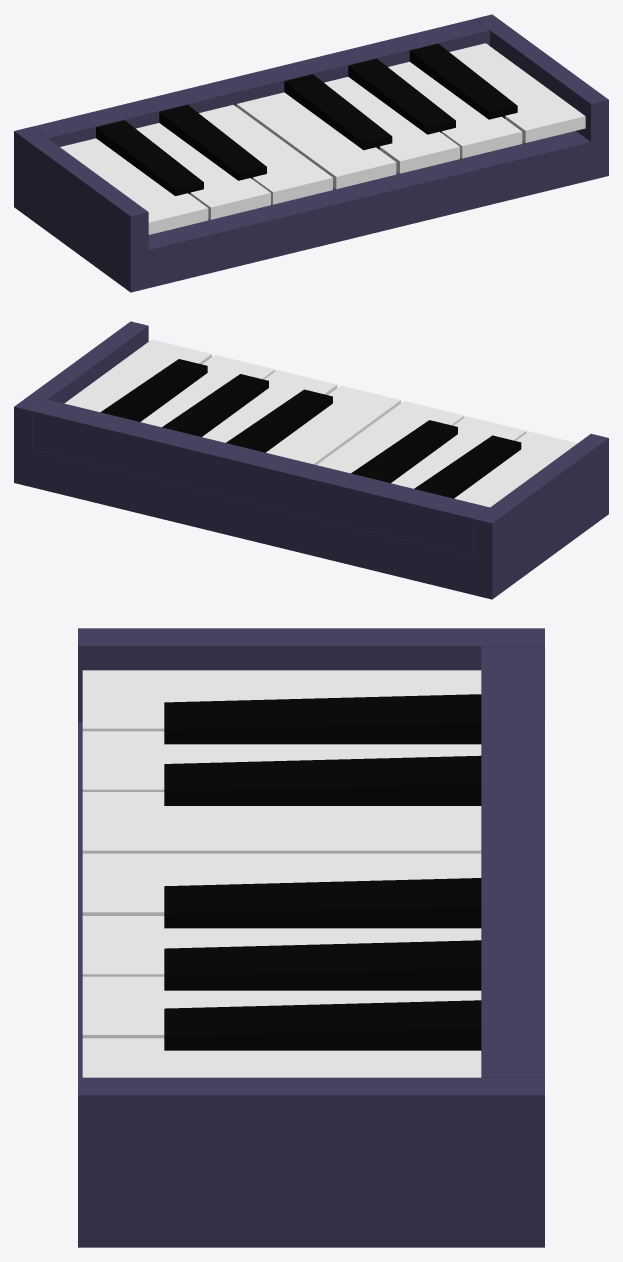
File: piano.glb
3 renders of one model, top to bottom at view 1: azimuth 30°, elevation 25°; view 2: azimuth 150°, elevation 25°; view 3: azimuth 270°, elevation 25°, orthographic. The views are drawn at different scales.
Visible parts, largest first — view 1: base, Fa, Si, Mi, Do, Sol, Re, La, Fa#, La#, Re#, Do# (+1 smaller); view 2: base, Fa, Si, Mi, Do, Sol, Do#, Fa#, La#, Sol#, Re#, Re (+1 smaller); view 3: base, Mi, Fa#, Do#, La#, Sol#, Re#, Fa, Do, Si, Sol, Re (+1 smaller).
Boxes of the visible parts, <box> form: base: <box>14,14,608,292</box>; Fa: <box>236,92,396,189</box>; Si: <box>449,43,585,142</box>; Mi: <box>199,105,332,204</box>; Do: <box>60,138,208,234</box>; Sol: <box>324,77,459,173</box>; Re: <box>136,123,270,219</box>; La: <box>388,61,522,158</box>; Fa#: <box>284,74,392,150</box>; La#: <box>409,43,517,119</box>; Re#: <box>159,104,266,180</box>; Do#: <box>96,120,203,195</box>; base: <box>14,321,608,599</box>; Fa: <box>266,385,400,464</box>; Si: <box>64,339,211,412</box>; Mi: <box>317,401,464,473</box>; Do: <box>454,431,577,507</box>; Sol: <box>202,370,337,442</box>; Do#: <box>414,435,521,498</box>; Fa#: <box>226,389,332,452</box>; La#: <box>101,359,207,421</box>; Sol#: <box>162,374,268,436</box>; Re#: <box>351,420,457,483</box>; Re: <box>391,416,526,488</box>; base: <box>78,628,544,1247</box>; Mi: <box>82,792,481,853</box>; Fa#: <box>164,878,481,928</box>; Do#: <box>164,694,481,744</box>; La#: <box>164,1000,481,1050</box>; Sol#: <box>164,940,481,990</box>; Re#: <box>164,755,481,805</box>; Fa: <box>82,853,481,915</box>; Do: <box>82,670,481,731</box>; Si: <box>82,1038,481,1077</box>; Sol: <box>82,916,481,976</box>; Re: <box>82,731,481,791</box>.
Bounding box in the file's own units: 4.15 × 0.6315 × 1.76.
